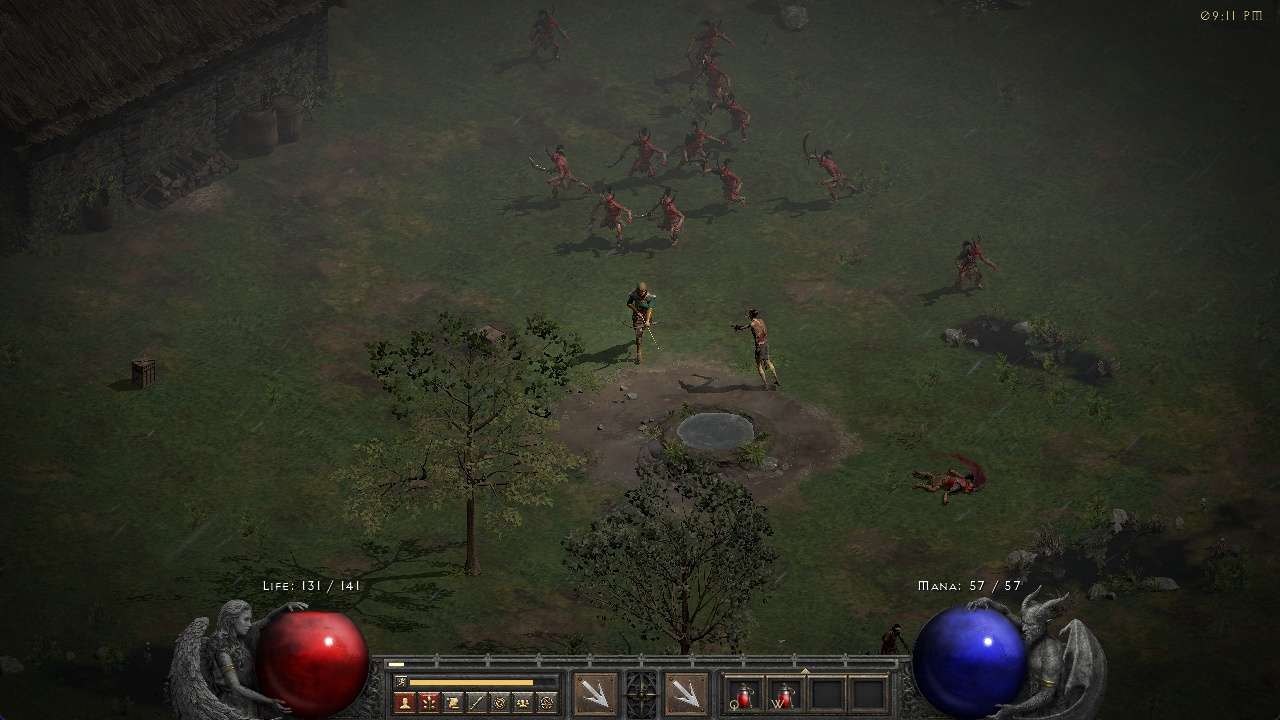fallen: (797, 134, 867, 195), (946, 236, 1006, 298), (528, 149, 590, 204), (528, 8, 583, 66), (623, 134, 679, 188), (712, 159, 768, 211), (598, 185, 633, 244), (715, 96, 764, 136), (687, 61, 746, 92), (653, 191, 691, 239), (693, 28, 746, 61), (686, 122, 728, 157)
